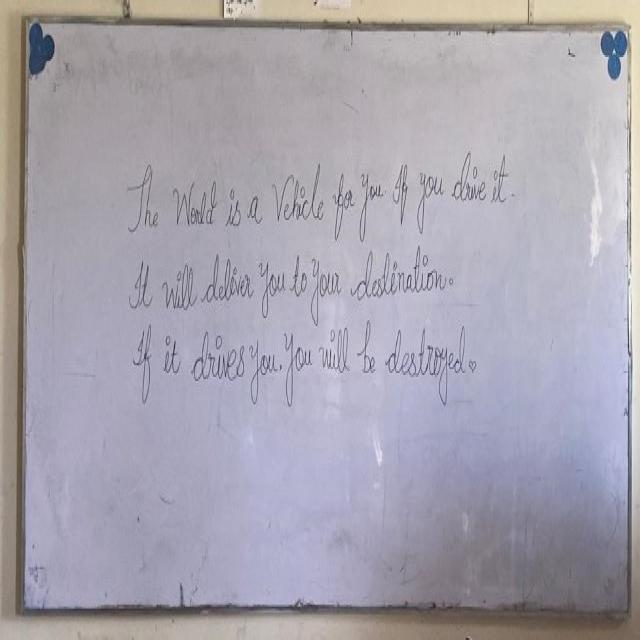White-board: (17, 8, 630, 616)
